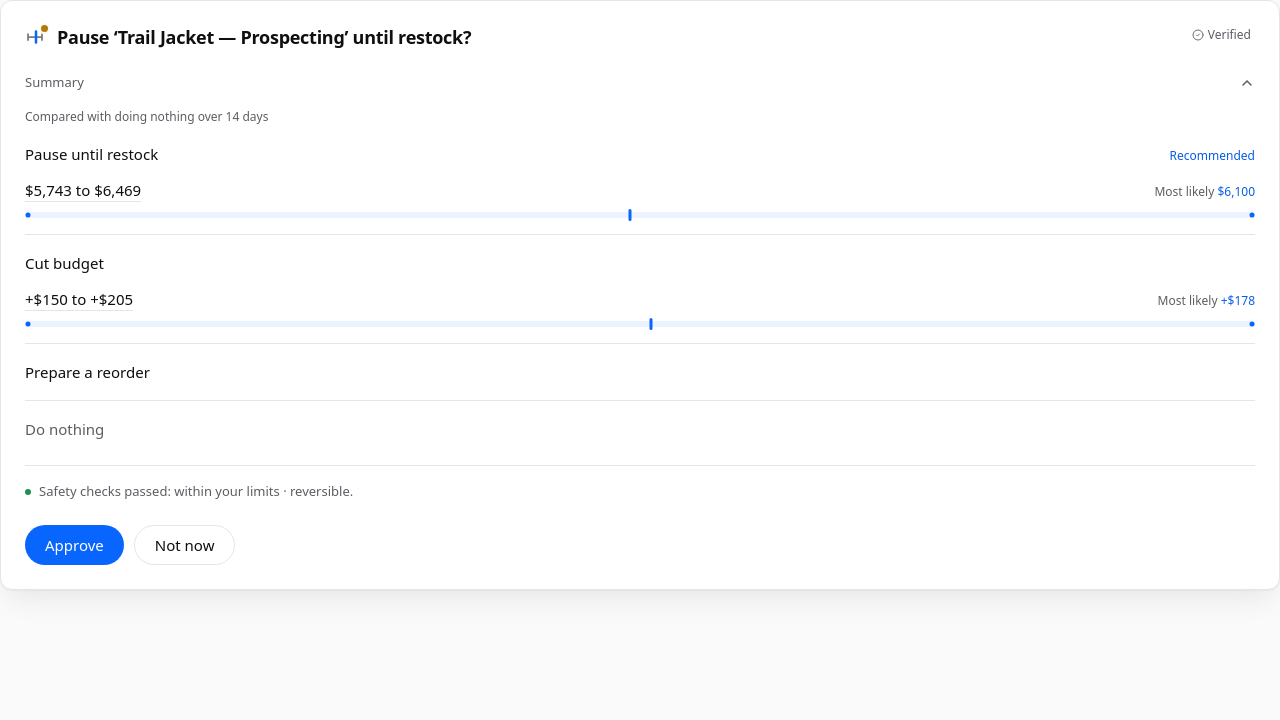
the permission card › opens each option's proof from its number
The image size is (1280, 720).
Click the button with aria-label "+$150 to +$205, most likely".
click(79, 299)  # box [25, 287, 1255, 327]
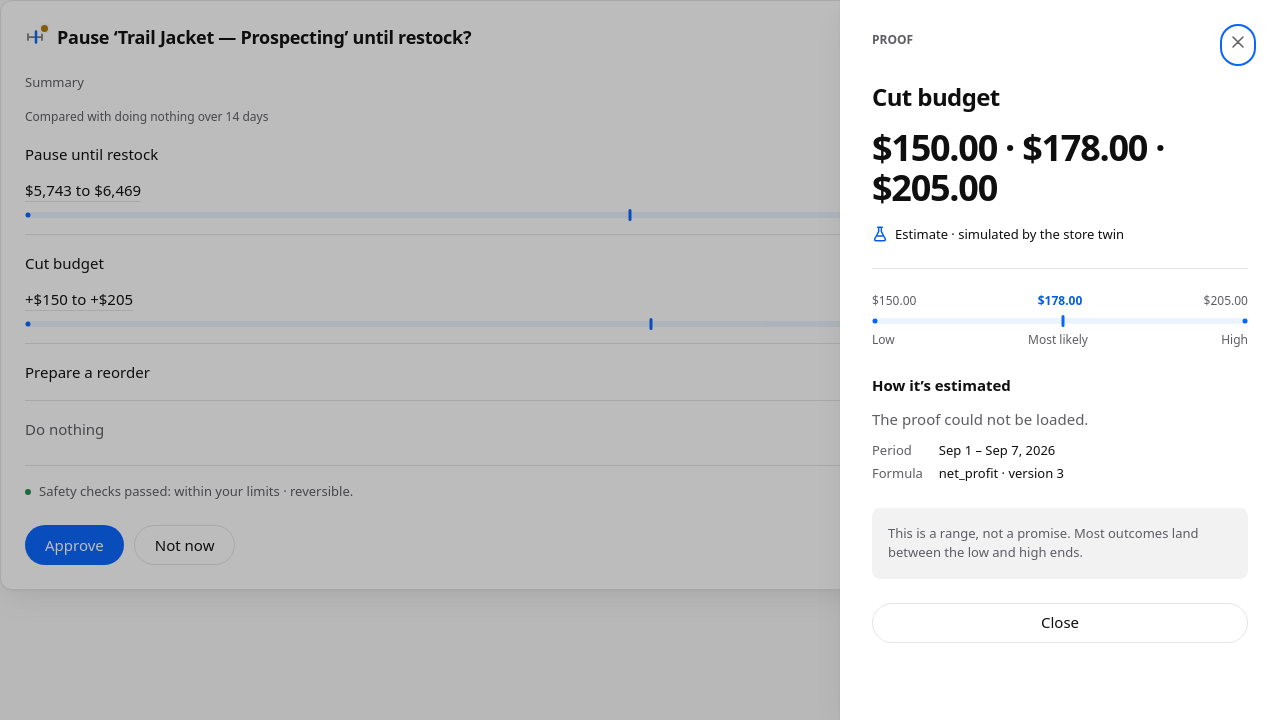
Check: the dialog "Cut budget" is shown, box [840, 0, 1279, 719]
